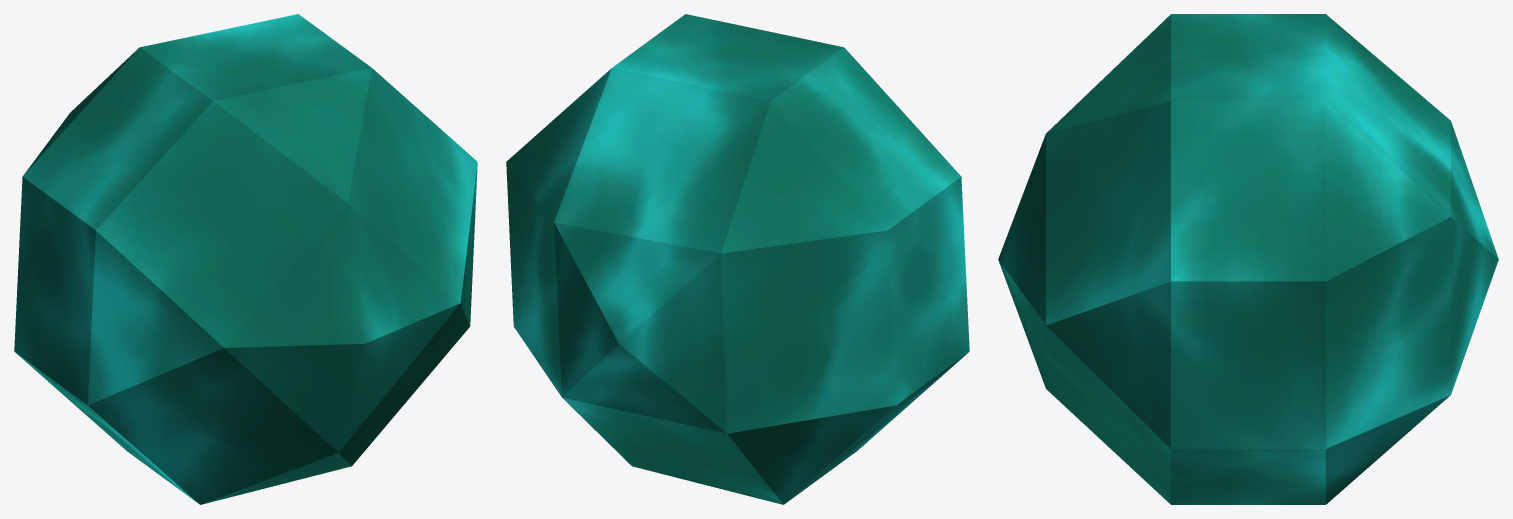
File: zhucheng_yewai_370_qiu.obj
3 renders of one model, left to right at view 1: azimuth 30°, elevation 25°; view 2: azimuth 150°, elevation 25°; view 3: azimuth 270°, elevation 25°, orthographic. The views are drawn at different scales.
Visible parts, largest first — view 1: w1; view 2: w1; view 3: w1.
Boxes of the visible parts, bbox=[...] form: w1: bbox=[14, 14, 477, 504]; w1: bbox=[506, 14, 969, 504]; w1: bbox=[998, 14, 1498, 504].
Bounding box in the file's own units: 32.18 × 31.6 × 34.03.
2 materials, 2 textured.
